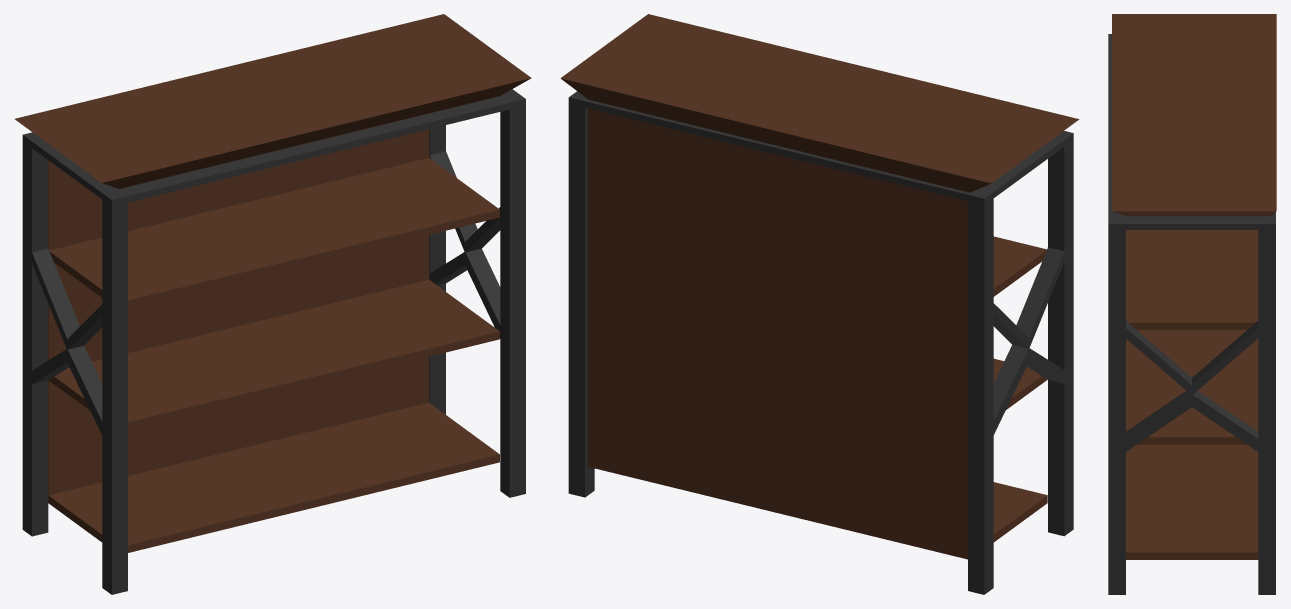
The model's file is CPI441_Fur_BookShelf_O4_V2.fbx.
3 views of the same model, side by side, from view 1: azimuth 30°, elevation 25°; view 2: azimuth 150°, elevation 25°; view 3: azimuth 270°, elevation 25° (orthographic). The views are drawn at different scales.
Parts seen in each view (by area): view 1: Cube; view 2: Cube; view 3: Cube.
Part boxes in pixels (box(x1,y1,x2,y2)): Cube: box(15, 14, 531, 594); Cube: box(560, 14, 1079, 594); Cube: box(1108, 14, 1276, 594).
Size of the model in its own units: 960 by 879 by 347.
